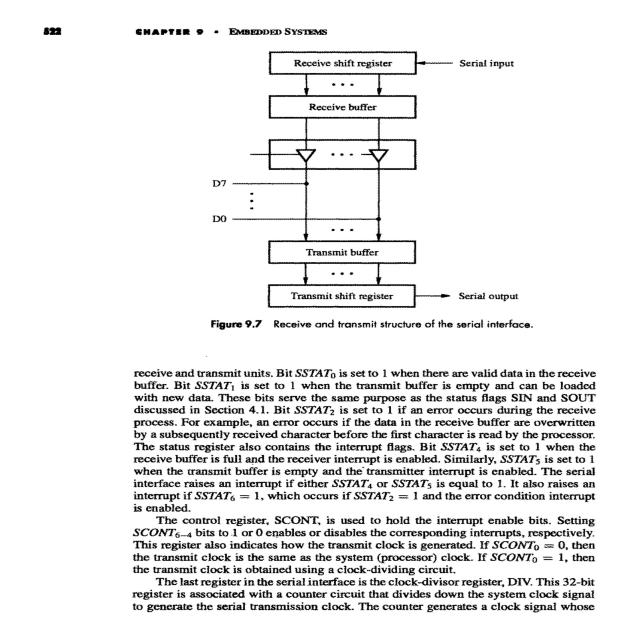diagram: (90, 38, 640, 354)
